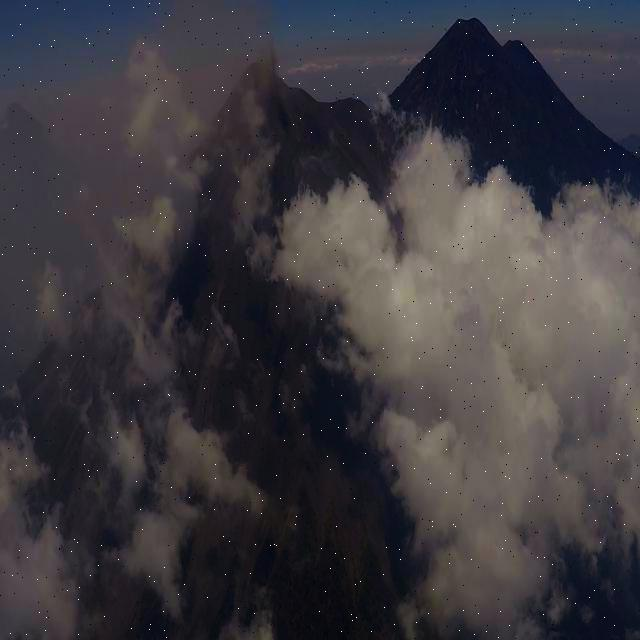Summit: (208, 50, 318, 114)
